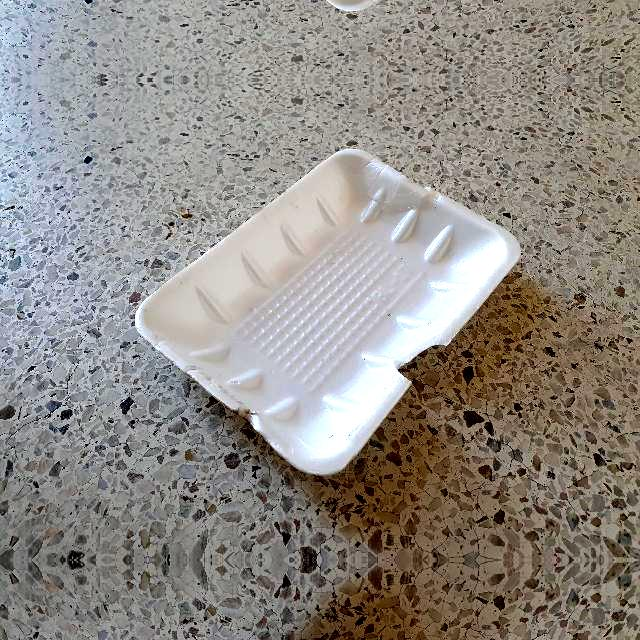Styrofoam: (134, 150, 522, 478), (135, 149, 521, 475)
